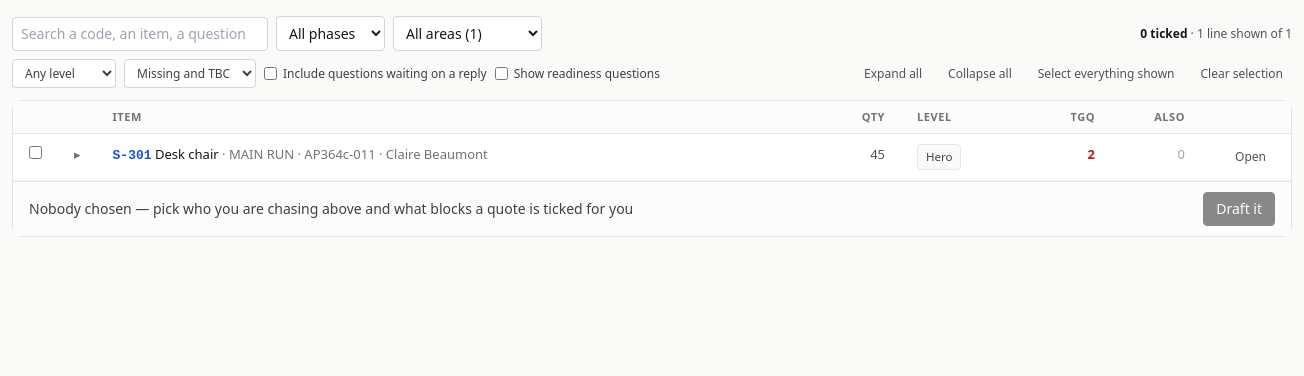
Scenario: a filter narrows what is listed, never what is asked › says so when a selected question is hidden, rather than dropping it
The width and height of the screenshot is (1304, 376).
Click the text "Desk chair" at (187, 154), box x1=155 y1=145 x2=219 y2=163
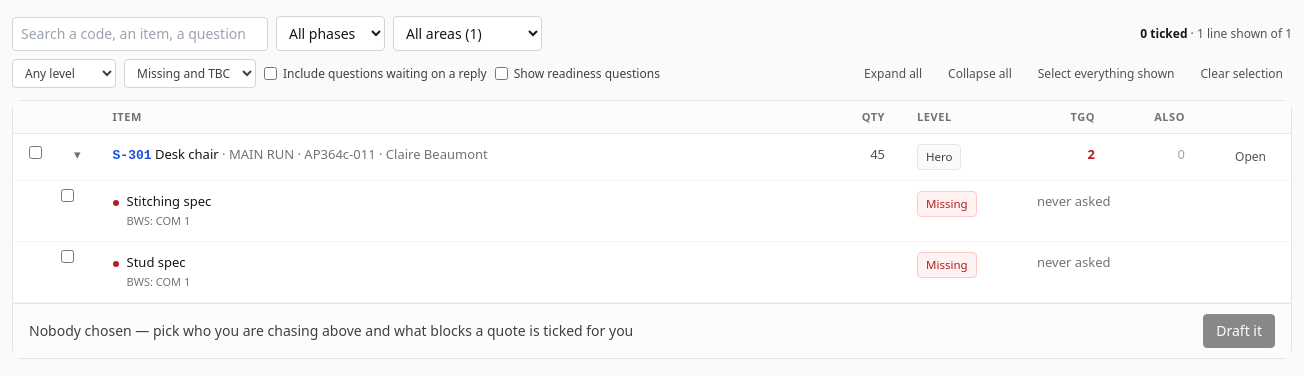
Click the checkbox named "Ask everything shown on S-301" at (36, 152), box x1=29 y1=146 x2=42 y2=159
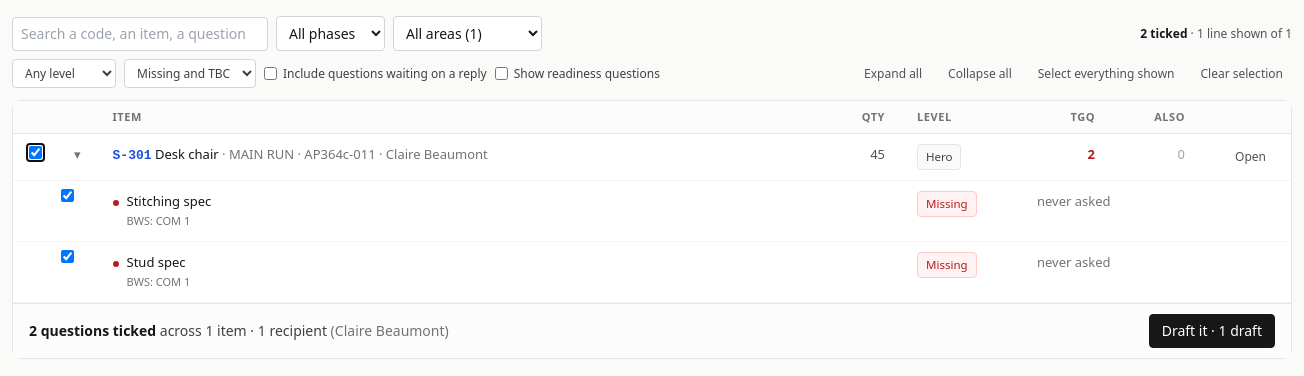
Type "stitching" into the search field with placeholder "Search a code, an item, a question or a BWS field" at (140, 34), box x1=12 y1=16 x2=268 y2=50
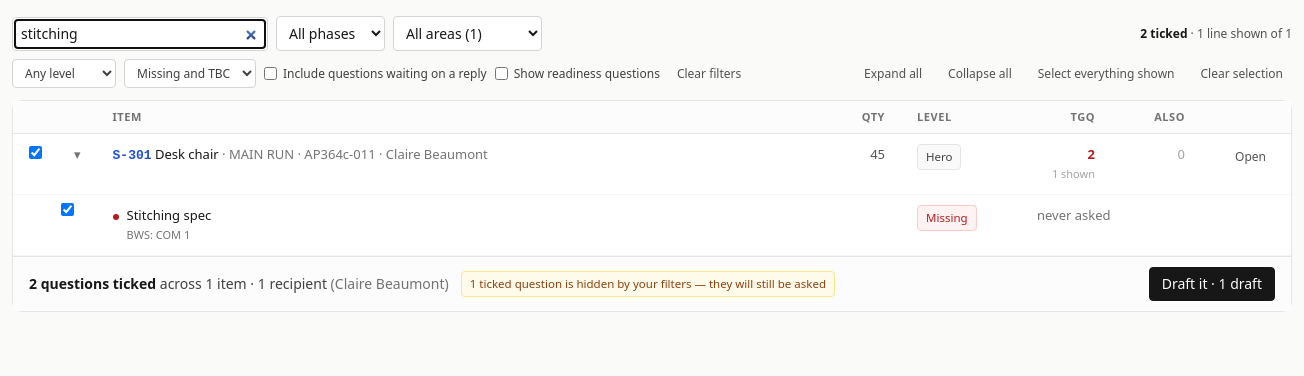
Expected: the checkbox named "Ask everything shown on S-301" is checked, x1=29 y1=146 x2=42 y2=159
Expected: the text "2 questions ticked" is shown, x1=29 y1=274 x2=156 y2=293
Expected: the text "will still be asked" is shown, x1=574 y1=276 x2=826 y2=291
